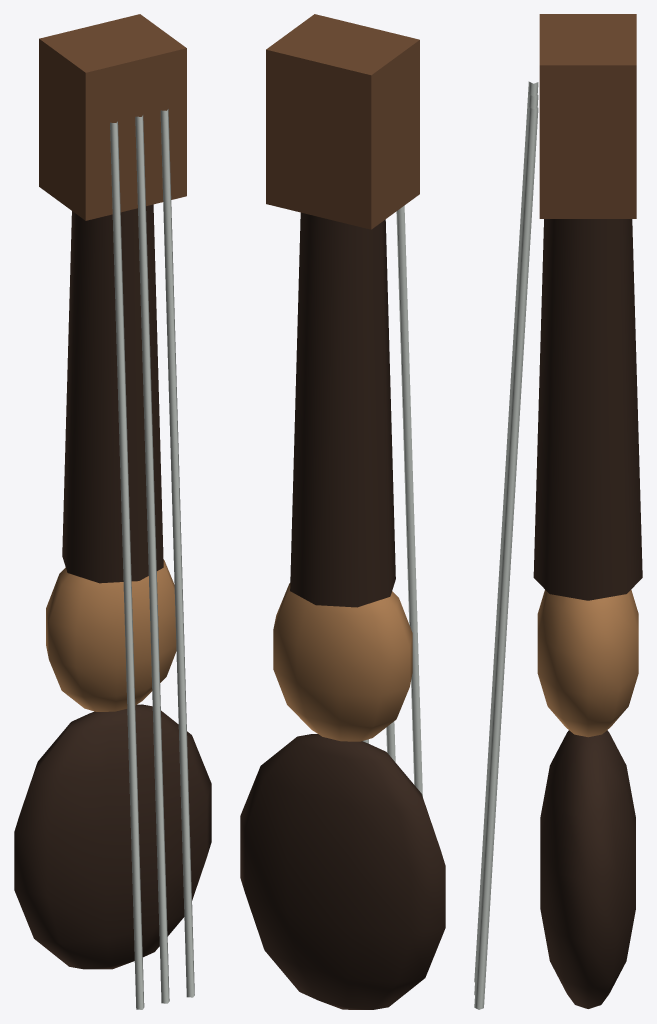
File: viol.glb
3 renders of one model, left to right at view 1: azimuth 30°, elevation 25°; view 2: azimuth 150°, elevation 25°; view 3: azimuth 270°, elevation 25°, orthographic. The views are drawn at different scales.
Parts seen in each view (by area): view 1: viol-body, viol-neck, viol-pegbox, viol-string (×3), viol-waist; view 2: viol-body, viol-neck, viol-pegbox, viol-waist, viol-string; view 3: viol-neck, viol-body, viol-pegbox, viol-waist, viol-string (×3).
Boxes of the visible parts, bbox=[...] form: viol-body: bbox=[14, 704, 211, 969]; viol-neck: bbox=[62, 204, 163, 583]; viol-pegbox: bbox=[39, 14, 186, 220]; viol-string (×3): bbox=[110, 109, 194, 1009]; viol-waist: bbox=[46, 560, 176, 711]; viol-body: bbox=[240, 734, 445, 1009]; viol-neck: bbox=[290, 212, 395, 607]; viol-pegbox: bbox=[266, 14, 419, 229]; viol-waist: bbox=[273, 583, 412, 741]; viol-string: bbox=[396, 205, 428, 971]; viol-neck: bbox=[533, 219, 642, 600]; viol-body: bbox=[540, 730, 635, 1008]; viol-pegbox: bbox=[539, 14, 636, 218]; viol-waist: bbox=[537, 590, 638, 737]; viol-string (×3): bbox=[474, 81, 538, 1009].
Bounding box in the file's own units: 0.195 × 0.875 × 0.139.
